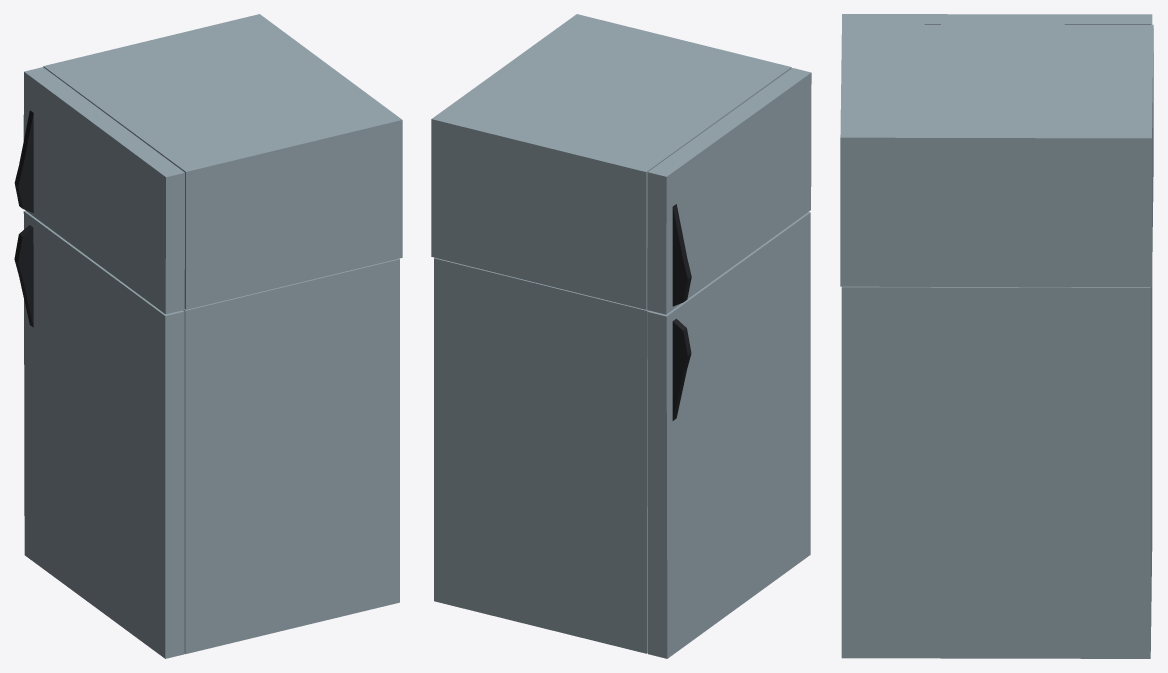
File: Nevera.fbx
3 views of the same model, side by side, from view 1: azimuth 30°, elevation 25°; view 2: azimuth 150°, elevation 25°; view 3: azimuth 270°, elevation 25° (orthographic). The views are drawn at different scales.
Parts seen in each view (by area): view 1: Cube.006; view 2: Cube.006; view 3: Cube.006.
Boxes of the visible parts, bbox=[...] form: Cube.006: bbox=[14, 14, 402, 658]; Cube.006: bbox=[431, 14, 811, 658]; Cube.006: bbox=[840, 14, 1153, 658].
Bounding box in the file's own units: 0.7593 × 1.4 × 0.7592.
